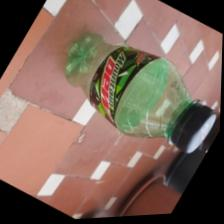plastic: (46, 0, 221, 214)
